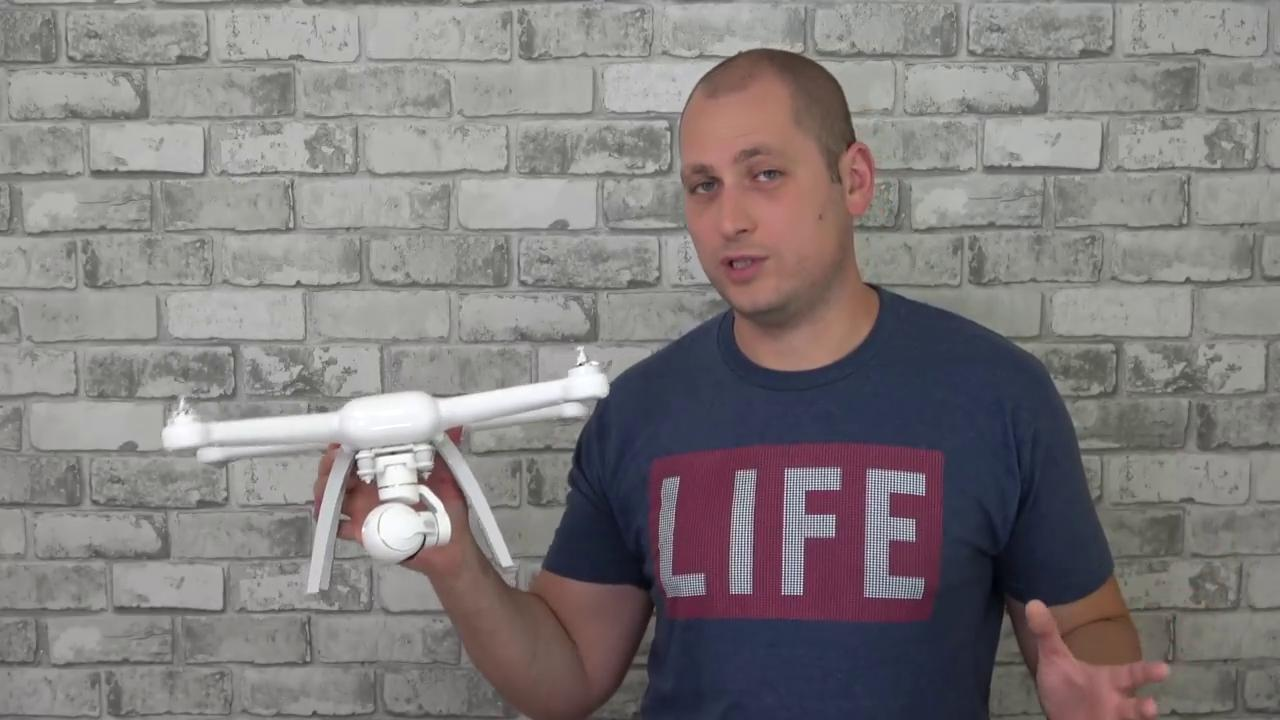drone: (152, 356, 626, 485)
